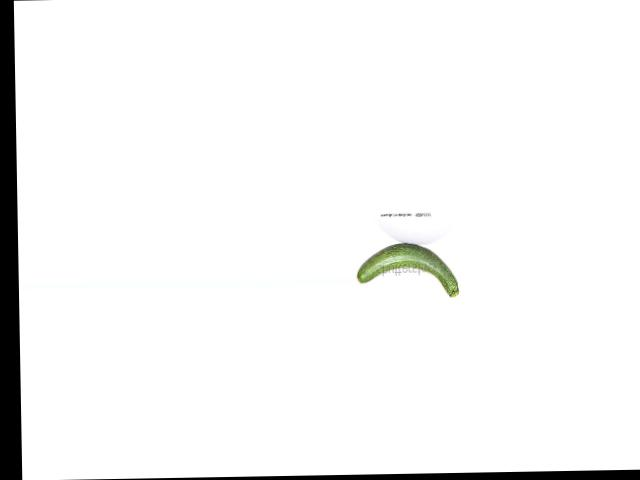cucumber: (356, 242, 459, 299)
